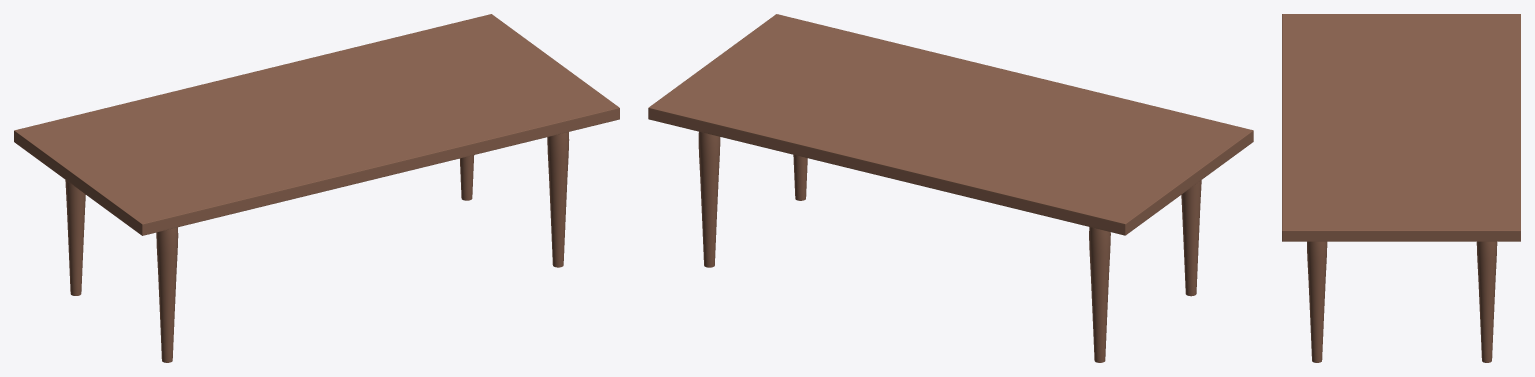
The model's file is table.glb.
The picture shows the model from 3 angles, left to right: view 1: azimuth 30°, elevation 25°; view 2: azimuth 150°, elevation 25°; view 3: azimuth 270°, elevation 25°; orthographic projection. The views are drawn at different scales.
Visible parts, largest first — view 1: table; view 2: table; view 3: table.
Boxes of the visible parts, left/top/right/bottom form: table: left=14, top=14, right=619, bottom=362; table: left=648, top=14, right=1253, bottom=362; table: left=1282, top=14, right=1520, bottom=362.
Size of the model in its own units: 10.63 by 3.43 by 4.95.
